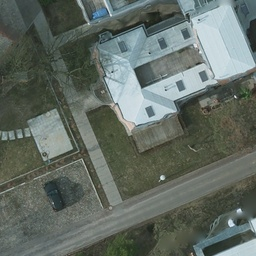car: (43, 180, 65, 210)
